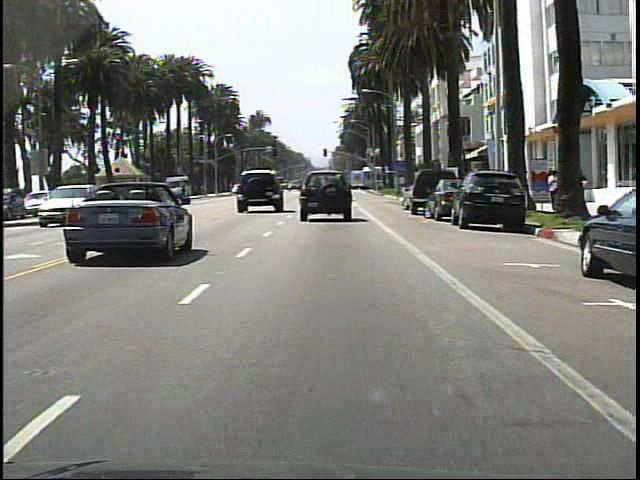person: (545, 167, 560, 212)
